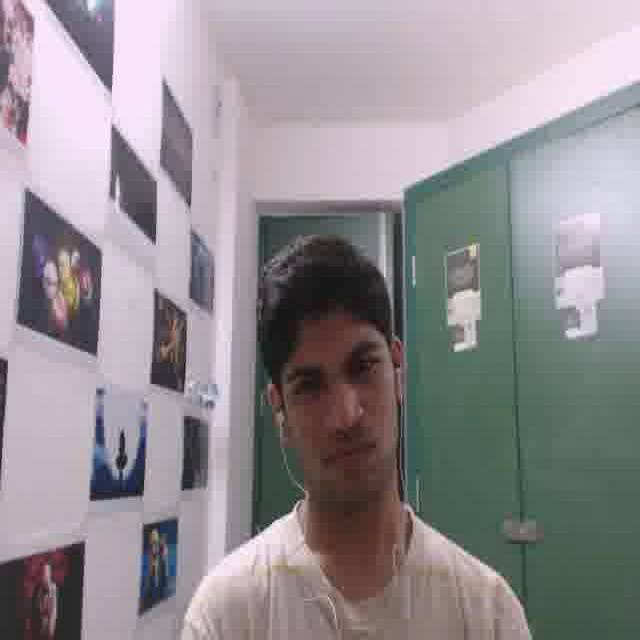Confusion: (275, 307, 395, 501)
